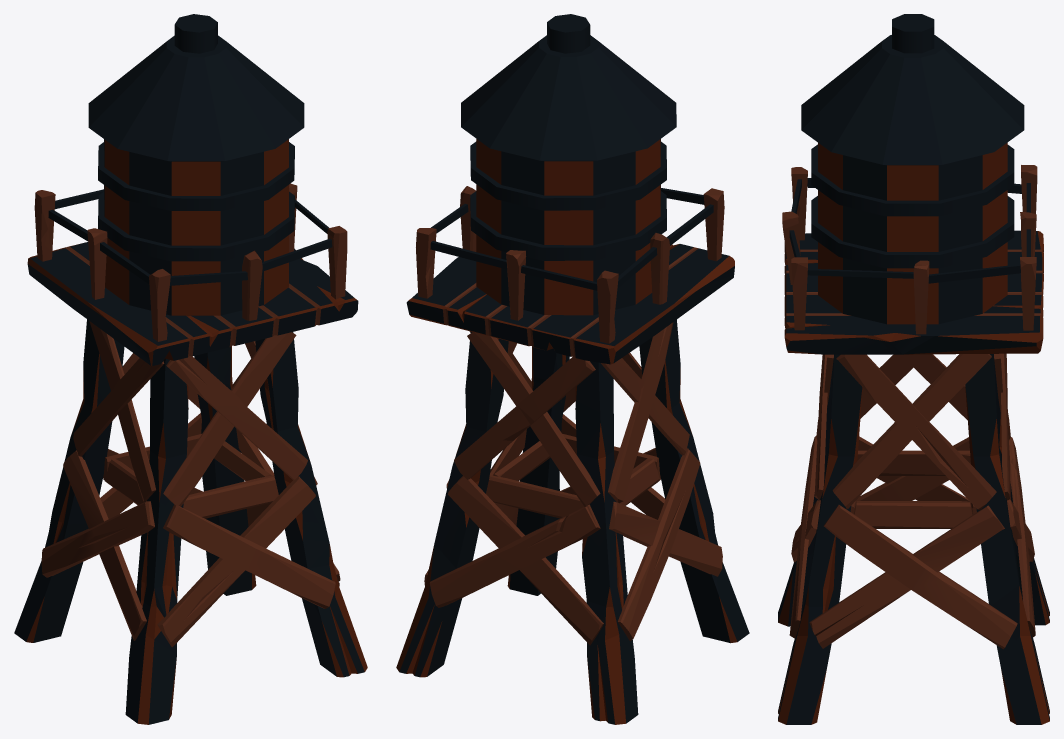
The model's file is WaterTower_2.fbx.
3 renders of one model, left to right at view 1: azimuth 30°, elevation 25°; view 2: azimuth 150°, elevation 25°; view 3: azimuth 270°, elevation 25°, orthographic. The views are drawn at different scales.
Visible parts, largest first — view 1: WaterTower_2; view 2: WaterTower_2; view 3: WaterTower_2.
Part boxes in pixels (box(x1,y1,x2,y2)): WaterTower_2: box(14, 14, 367, 724); WaterTower_2: box(396, 14, 749, 724); WaterTower_2: box(778, 14, 1049, 724).
Size of the model in its own units: 129 by 335 by 128.
